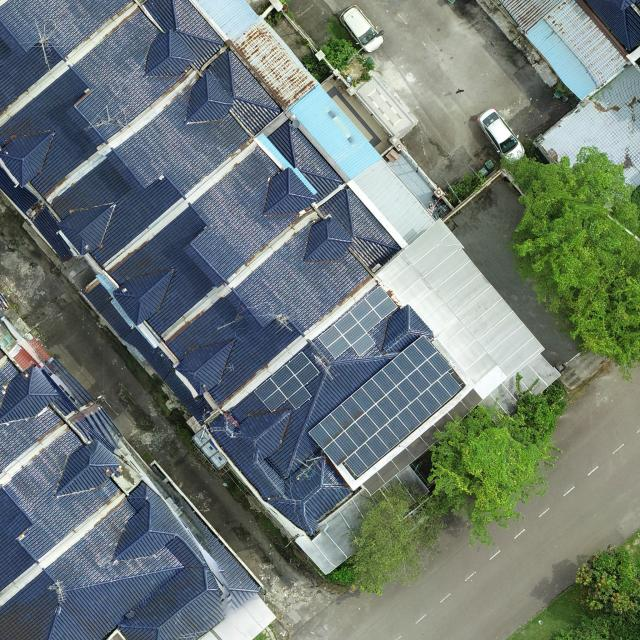tree: (499, 145, 640, 383), (427, 397, 562, 549), (346, 478, 446, 596), (574, 543, 640, 615), (515, 372, 558, 438), (320, 38, 357, 70)
